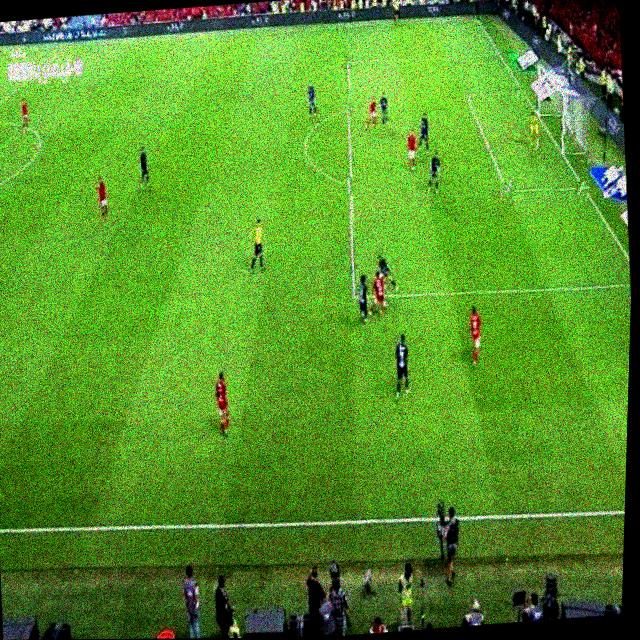bigarea_bottom_inner: (348, 287, 359, 304)
bigarea_top_inner: (341, 54, 354, 69)
bigarea_top_outter: (492, 47, 503, 58)
bottom_arc_area_intersection: (344, 177, 356, 193)
corner: (466, 14, 481, 26)
midline_top_intersection: (57, 40, 73, 53)
smallarea_bottom_inner: (498, 180, 516, 199)
smallarea_bottom_outter: (574, 180, 590, 194)
smallarea_top_inner: (463, 90, 472, 101)
smallarea_top_outter: (514, 87, 527, 99)
top_arc_area_intersection: (342, 101, 353, 116)
